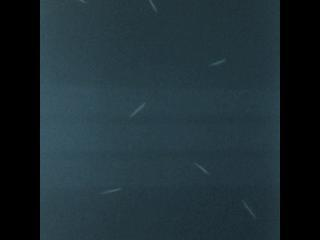scratch: (237, 196, 258, 221), (128, 100, 147, 119), (95, 185, 123, 196), (145, 0, 164, 15), (192, 160, 210, 175), (208, 57, 227, 68), (76, 0, 90, 6)
